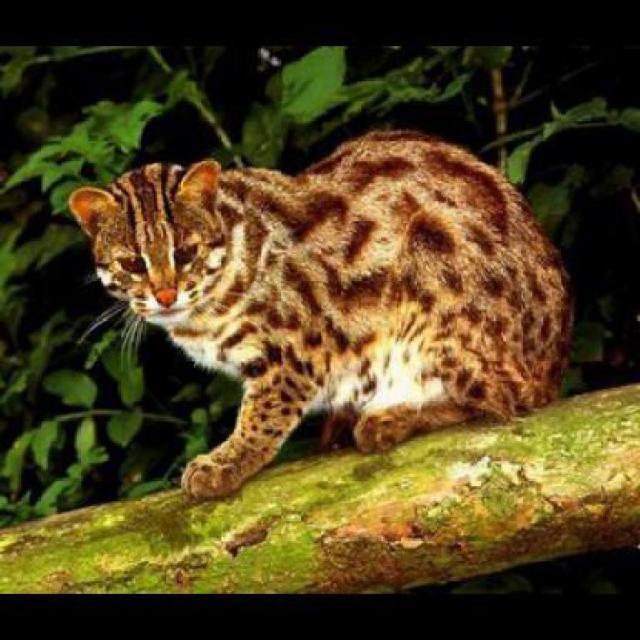unauthorized: (67, 126, 576, 503)
